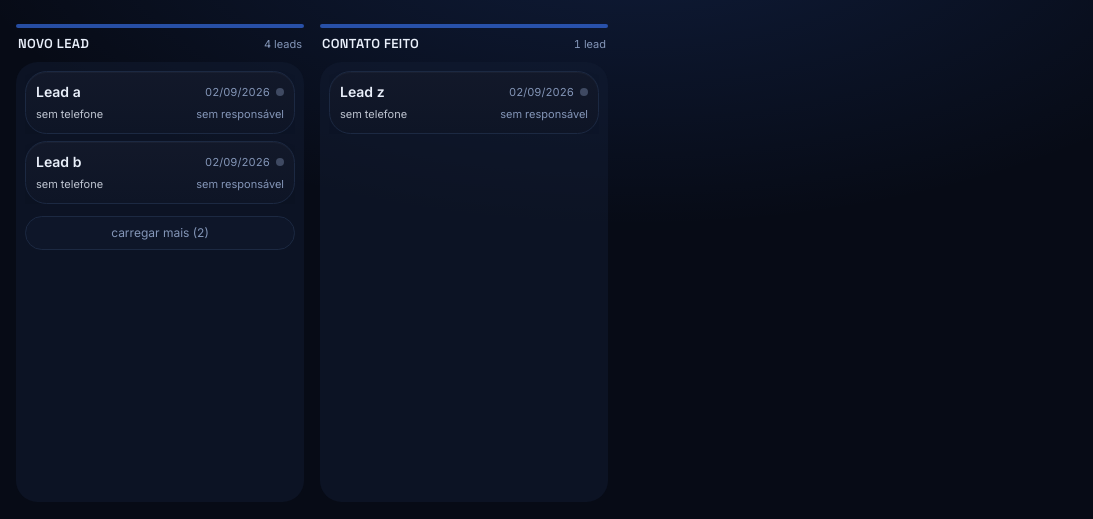
Scenario: Quadro — paginacao por coluna › caso 4 — "carregar mais" pede a proxima pagina DAQUELA etapa, com o offset certo
Click the button "carregar mais (2)" at [160, 232], box [25, 216, 295, 250]
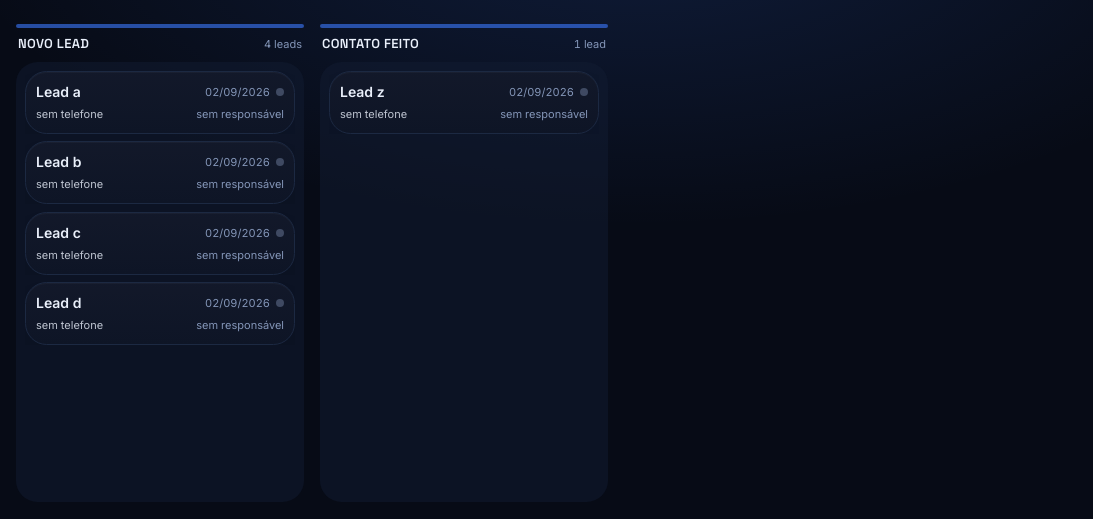
Expected: the button "carregar mais" is gone
